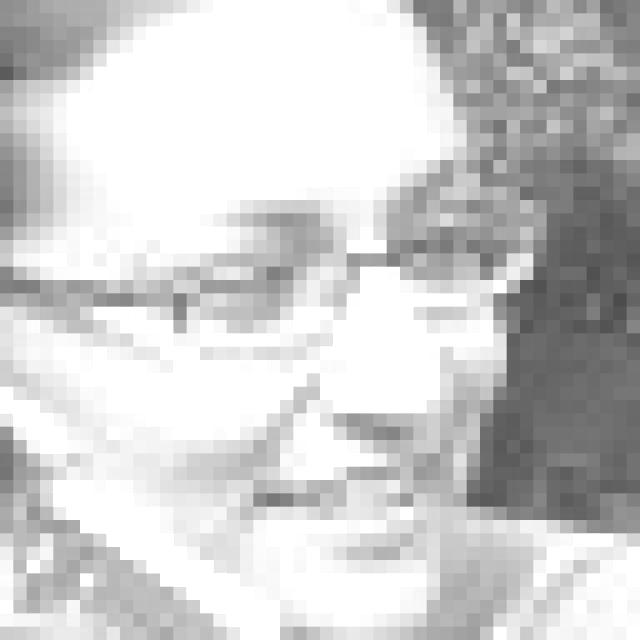real: (4, 0, 522, 637), (138, 212, 494, 348)
